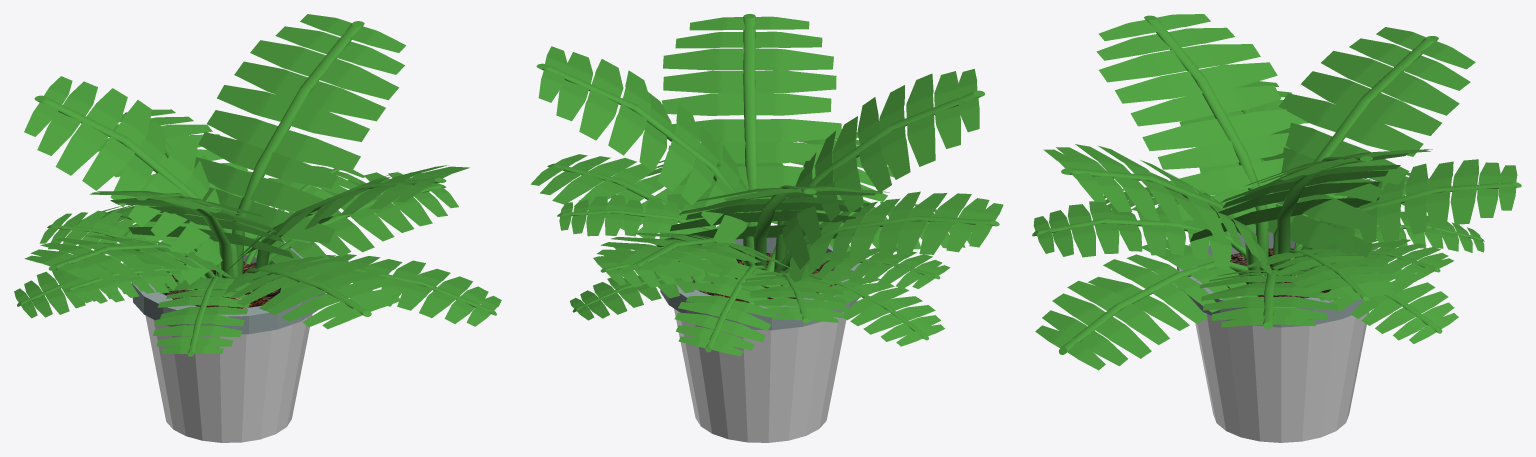
Rendered from Pottedplant3.fbx.
3 renders of one model, left to right at view 1: azimuth 30°, elevation 25°; view 2: azimuth 150°, elevation 25°; view 3: azimuth 270°, elevation 25°, orthographic. The views are drawn at different scales.
Visible parts, largest first — view 1: pasted__pasted__group13_pasted__group12_pasted__pasted__pCyl, pPipe2, pasted__group13_pasted__group12_pasted__pasted__pCylinder1, pasted__group14_pasted__group12_pasted__pasted__pCylinder1 (×2), pasted__group16_pasted__group15_pasted__pasted__group12_past (×2), group11_pasted__pPlane1, group14_pasted__group12_pasted__pasted__pCylinder1, pasted__pCylinder1, pasted__pasted__group14_pasted__group12_pasted__pasted__pCyl, pasted__group15_pasted__group12_pasted__pasted__pCylinder1, group16_pasted__group15_pasted__pasted__group12_pasted__past, group13_pasted__group12_pasted__pasted__pCylinder1 (+1 smaller); view 2: pasted__group14_pasted__group12_pasted__pasted__pCylinder1, pPipe2, pasted__pasted__group13_pasted__group12_pasted__pasted__pCyl, pasted__pasted__group14_pasted__group12_pasted__pasted__pCyl, pasted__pCylinder1, group15_pasted__group12_pasted__pasted__pCylinder1, pasted__group13_pasted__group12_pasted__pasted__pCylinder1, group14_pasted__group12_pasted__pasted__pCylinder1, group13_pasted__group12_pasted__pasted__pCylinder1, group16_pasted__group15_pasted__pasted__group12_pasted__past, group19, pasted__group16_pasted__group15_pasted__pasted__group12_past (×2) (+4 smaller); view 3: pasted__pasted__group14_pasted__group12_pasted__pasted__pCyl, pasted__group13_pasted__group12_pasted__pasted__pCylinder1, pasted__group14_pasted__group12_pasted__pasted__pCylinder1 (×2), pPipe2, group13_pasted__group12_pasted__pasted__pCylinder1, group11_pasted__pPlane1, pasted__pasted__group13_pasted__group12_pasted__pasted__pCyl, group14_pasted__group12_pasted__pasted__pCylinder1, group19, pasted__group19, group17_pasted__group15_pasted__pasted__group12_pasted__past, group15_pasted__group12_pasted__pasted__pCylinder1 (+1 smaller).
Part boxes in pixels (x1,y1,x2,y2): pasted__pasted__group13_pasted__group12_pasted__pasted__pCyl: (194, 14, 405, 275); pPipe2: (131, 242, 325, 442); pasted__group13_pasted__group12_pasted__pasted__pCylinder1: (24, 76, 238, 292); pasted__group14_pasted__group12_pasted__pasted__pCylinder1 (×2): (222, 165, 501, 326); pasted__group16_pasted__group15_pasted__pasted__group12_past (×2): (55, 256, 252, 356); group11_pasted__pPlane1: (201, 256, 401, 329); group14_pasted__group12_pasted__pasted__pCylinder1: (251, 172, 458, 280); pasted__pCylinder1: (24, 235, 232, 281); pasted__pasted__group14_pasted__group12_pasted__pasted__pCyl: (89, 191, 293, 291); pasted__group15_pasted__group12_pasted__pasted__pCylinder1: (39, 210, 204, 276); group16_pasted__group15_pasted__pasted__group12_pasted__past: (14, 255, 165, 318); group13_pasted__group12_pasted__pasted__pCylinder1: (98, 109, 274, 277); pasted__group14_pasted__group12_pasted__pasted__pCylinder1: (662, 14, 844, 226); pPipe2: (660, 237, 862, 442); pasted__pasted__group13_pasted__group12_pasted__pasted__pCyl: (536, 46, 755, 264); pasted__pasted__group14_pasted__group12_pasted__pasted__pCyl: (774, 69, 984, 270); pasted__pCylinder1: (774, 191, 1003, 282); group15_pasted__group12_pasted__pasted__pCylinder1: (674, 261, 789, 356); pasted__group13_pasted__group12_pasted__pasted__pCylinder1: (657, 185, 889, 287); group14_pasted__group12_pasted__pasted__pCylinder1: (530, 154, 737, 279); group13_pasted__group12_pasted__pasted__pCylinder1: (596, 232, 793, 278); group16_pasted__group15_pasted__pasted__group12_pasted__past: (784, 270, 945, 346); group19: (557, 195, 738, 250); pasted__group16_pasted__group15_pasted__pasted__group12_past (×2): (784, 202, 971, 288); pasted__pasted__group14_pasted__group12_pasted__pasted__pCyl: (1096, 14, 1335, 270); pasted__group13_pasted__group12_pasted__pasted__pCylinder1: (1254, 27, 1475, 282); pasted__group14_pasted__group12_pasted__pasted__pCylinder1 (×2): (1035, 144, 1271, 370); pPipe2: (1177, 231, 1377, 442); group13_pasted__group12_pasted__pasted__pCylinder1: (1290, 159, 1521, 265); group11_pasted__pPlane1: (1032, 201, 1271, 272); pasted__pasted__group13_pasted__group12_pasted__pasted__pCyl: (1190, 149, 1432, 275); group14_pasted__group12_pasted__pasted__pCylinder1: (1197, 269, 1339, 328); group19: (1246, 249, 1394, 304); pasted__group19: (1291, 262, 1458, 343); group17_pasted__group15_pasted__pasted__group12_pasted__past: (1293, 239, 1454, 281); group15_pasted__group12_pasted__pasted__pCylinder1: (1296, 211, 1484, 252).
Bounding box in the file's own units: 550 × 405 × 523.
Materials: 11 (1 with a texture image).
